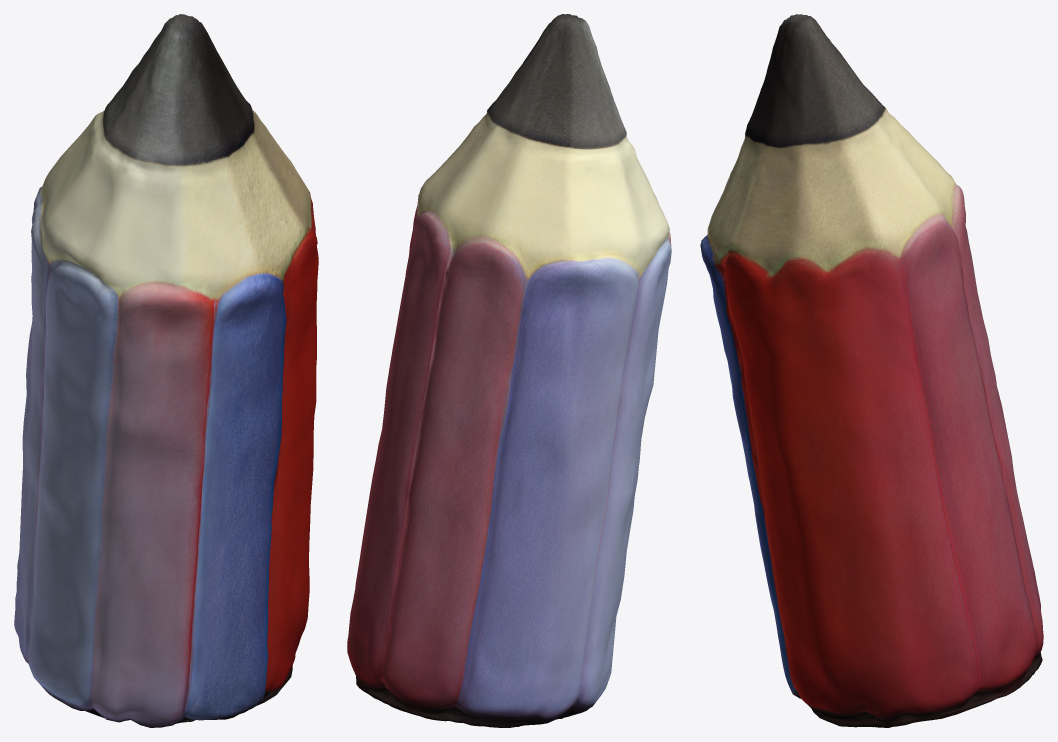
Rendered from Stack 6A - Pencil.glb.
3 views of the same model, side by side, from view 1: azimuth 30°, elevation 25°; view 2: azimuth 150°, elevation 25°; view 3: azimuth 270°, elevation 25° (orthographic). The views are drawn at different scales.
Visible parts, largest first — view 1: Pencil; view 2: Pencil; view 3: Pencil.
Part boxes in pixels (box(x1,y1,x2,y2)): Pencil: box(14, 14, 318, 727); Pencil: box(347, 14, 671, 727); Pencil: box(700, 14, 1043, 727).
Size of the model in its own units: 0.4072 by 1 by 0.473.
1 material, 1 textured.
